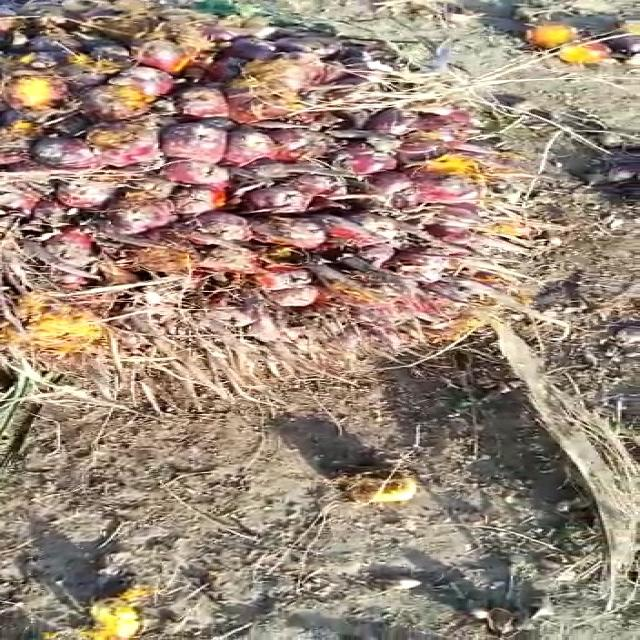palm oil: (0, 0, 541, 415)
